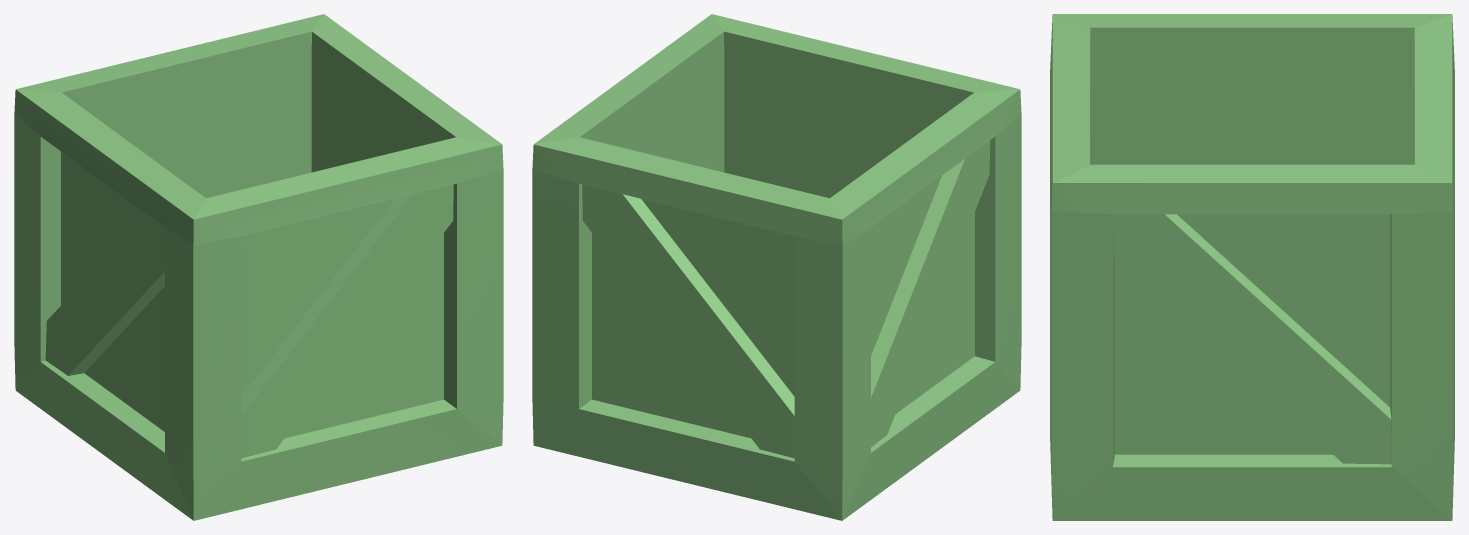
Rendered from crateNew.fbx.
3 views of the same model, side by side, from view 1: azimuth 30°, elevation 25°; view 2: azimuth 150°, elevation 25°; view 3: azimuth 270°, elevation 25° (orthographic). The views are drawn at different scales.
Visible parts, largest first — view 1: Crate_LP; view 2: Crate_LP; view 3: Crate_LP.
Part boxes in pixels (x1=…): Crate_LP: x1=14, y1=14, x2=503, y2=520; Crate_LP: x1=532, y1=14, x2=1021, y2=520; Crate_LP: x1=1050, y1=14, x2=1454, y2=520.
Size of the model in its own units: 103 by 95.92 by 103.
